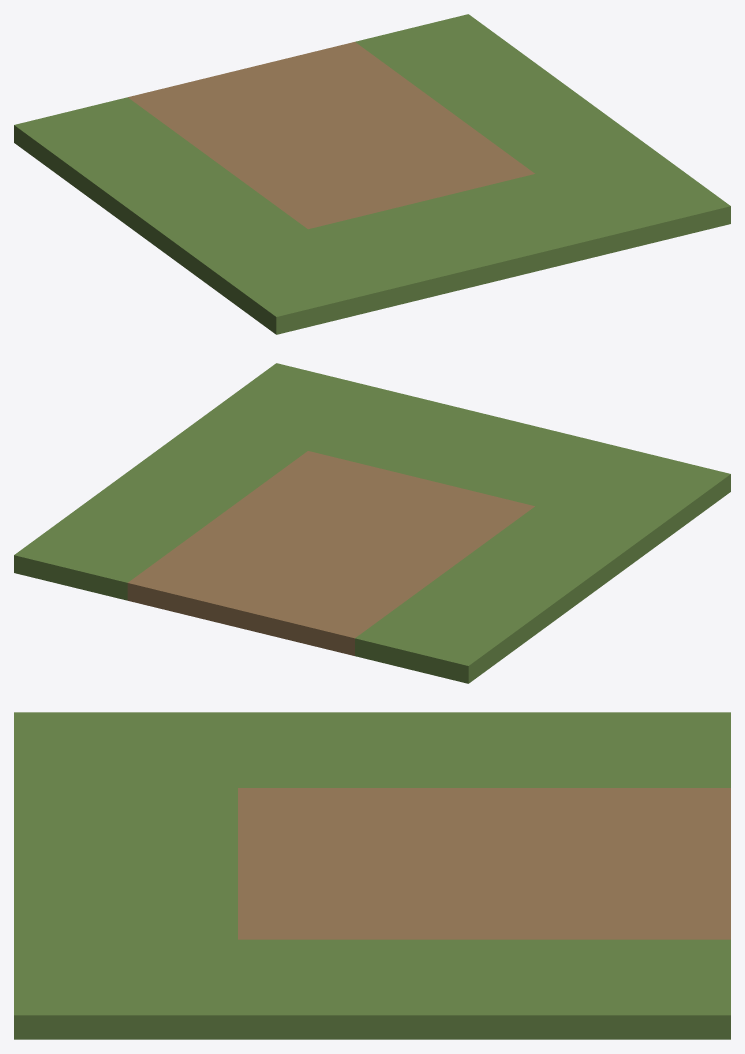
The model's file is Road_1Lane_Dirt_NoSidewalk_EndCap_DeadEnd.glb.
3 views of the same model, one above another, from view 1: azimuth 30°, elevation 25°; view 2: azimuth 150°, elevation 25°; view 3: azimuth 270°, elevation 25° (orthographic). The views are drawn at different scales.
Visible parts, largest first — view 1: Road_1Lane_Dirt_NoSidewalk_EndCap_DeadEnd_Grass-edge, Road_1Lane_Dirt_NoSidewalk_EndCap_DeadEnd_Dirt; view 2: Road_1Lane_Dirt_NoSidewalk_EndCap_DeadEnd_Grass-edge, Road_1Lane_Dirt_NoSidewalk_EndCap_DeadEnd_Dirt; view 3: Road_1Lane_Dirt_NoSidewalk_EndCap_DeadEnd_Grass-edge, Road_1Lane_Dirt_NoSidewalk_EndCap_DeadEnd_Dirt.
Boxes of the visible parts, x1,y1,x2,y2 form: Road_1Lane_Dirt_NoSidewalk_EndCap_DeadEnd_Grass-edge: [14, 14, 730, 334]; Road_1Lane_Dirt_NoSidewalk_EndCap_DeadEnd_Dirt: [128, 42, 534, 229]; Road_1Lane_Dirt_NoSidewalk_EndCap_DeadEnd_Grass-edge: [14, 363, 730, 683]; Road_1Lane_Dirt_NoSidewalk_EndCap_DeadEnd_Dirt: [127, 451, 534, 655]; Road_1Lane_Dirt_NoSidewalk_EndCap_DeadEnd_Grass-edge: [14, 712, 730, 1039]; Road_1Lane_Dirt_NoSidewalk_EndCap_DeadEnd_Dirt: [238, 788, 730, 939].
Size of the model in its own units: 8 by 0.3 by 8.
